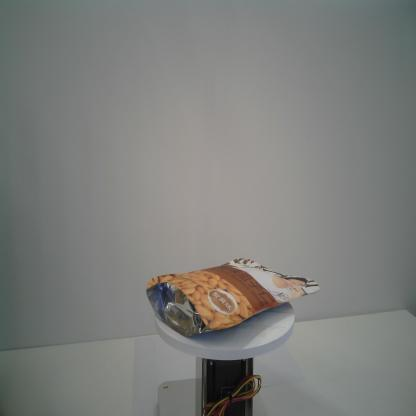Dried Fruit: (146, 258, 321, 340)
